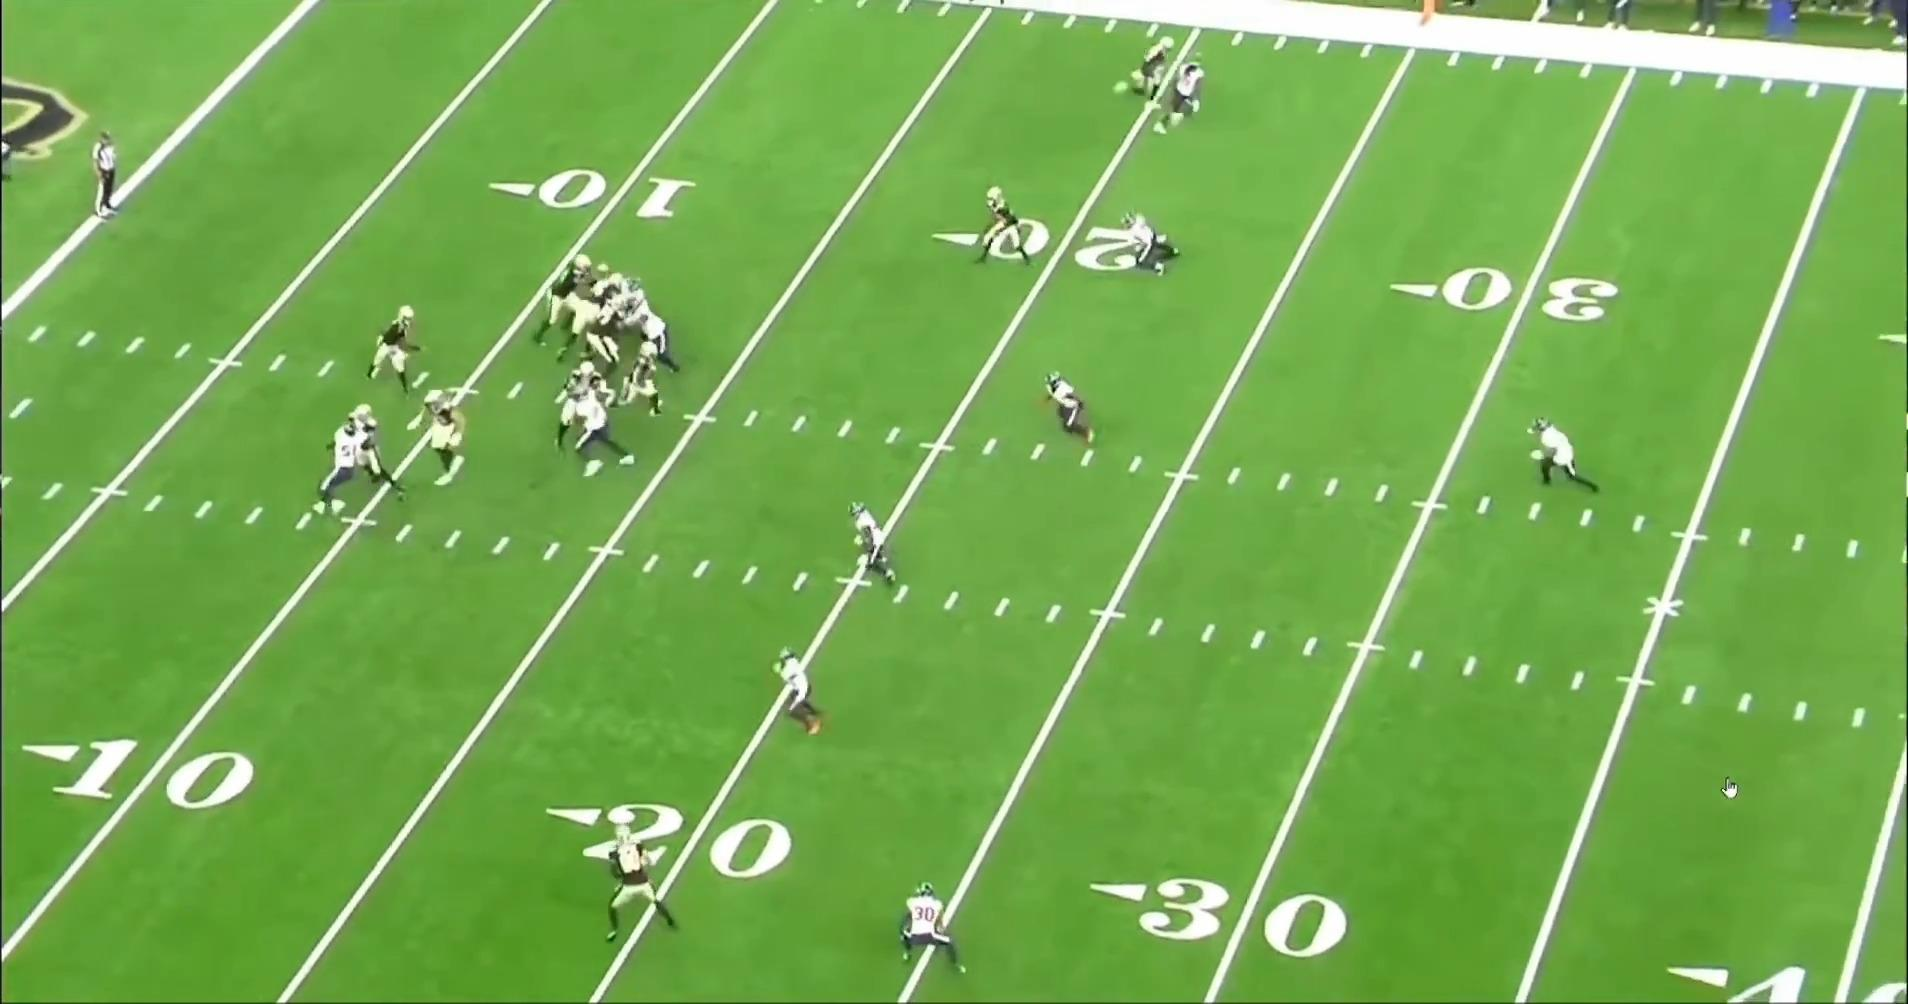defense: (896, 882, 970, 980), (1522, 415, 1601, 499), (315, 419, 380, 520), (569, 387, 637, 482), (620, 288, 688, 375), (848, 501, 906, 593), (772, 647, 828, 742), (1046, 373, 1107, 455), (1162, 57, 1215, 137), (1121, 213, 1180, 281), (592, 265, 623, 304)
oline: (338, 406, 406, 499), (525, 254, 589, 349), (543, 290, 621, 368), (568, 295, 628, 392), (546, 363, 596, 458)
qb: (363, 298, 421, 395)
ref: (87, 127, 124, 227)
skill: (593, 819, 679, 945), (406, 385, 464, 491), (1109, 33, 1174, 112), (970, 185, 1027, 272), (613, 347, 668, 419)
